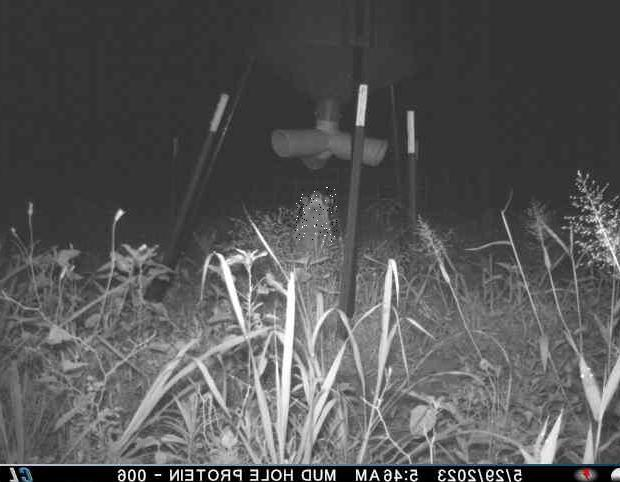Raccoon: (295, 188, 338, 243)
